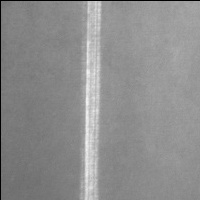scratches: (78, 1, 105, 200)
